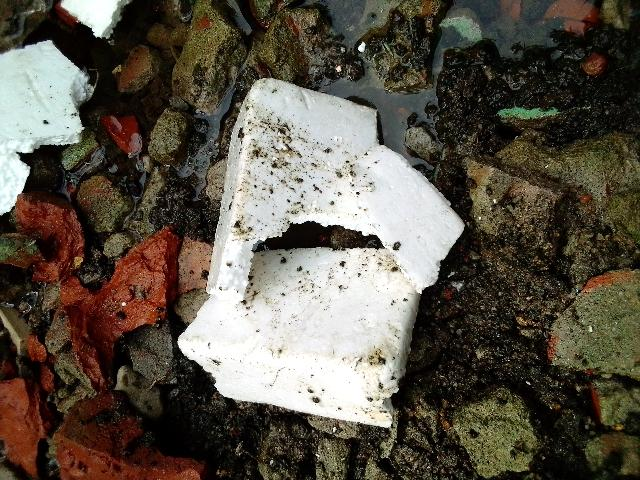cocksheet: (182, 73, 453, 440)
